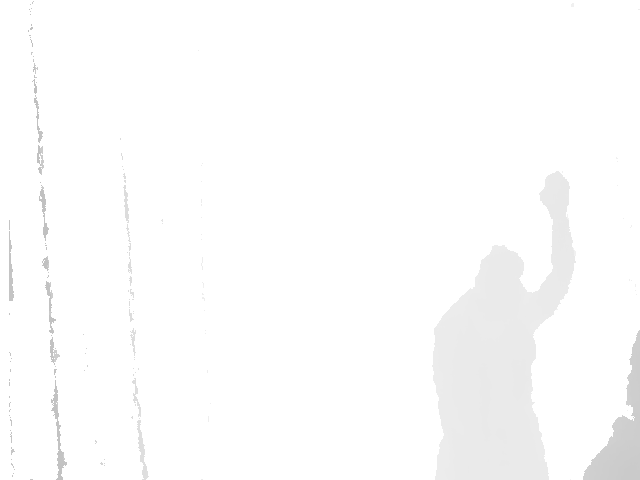hand: (540, 172, 570, 216)
head: (475, 245, 525, 318)
person: (429, 172, 578, 479)
